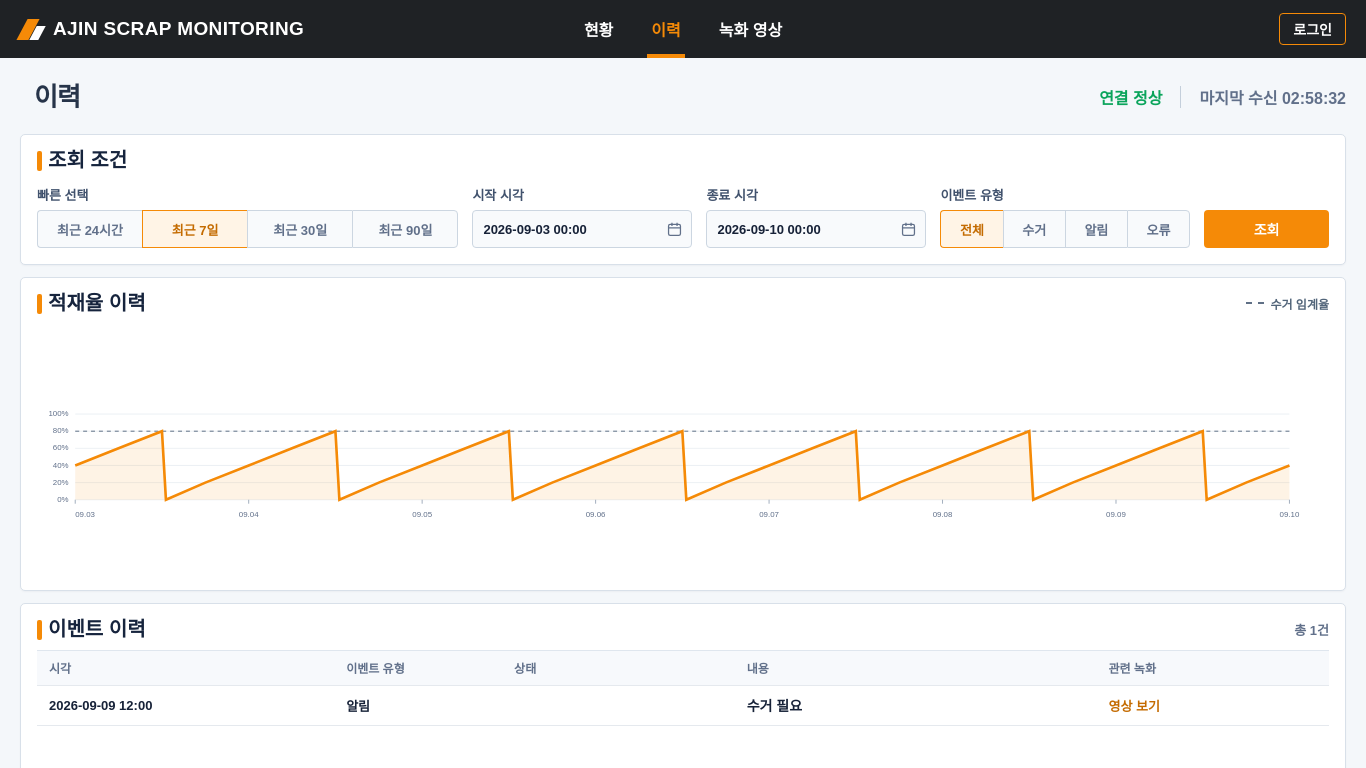
Test: 설명 Unknown backend description: event-987 <script>not executable</script>를 해석하지 않고 Backend 제목과 설명을 보존한다
This screenshot has width=1366, height=768.
Expected: the text "Unknown backend description: event-987 <script>not executable</script>" is not shown
Click the button with aria-label "알림 수거 필요 상세 보기" at {"x": 774, "y": 705}, box [747,695,802,715]
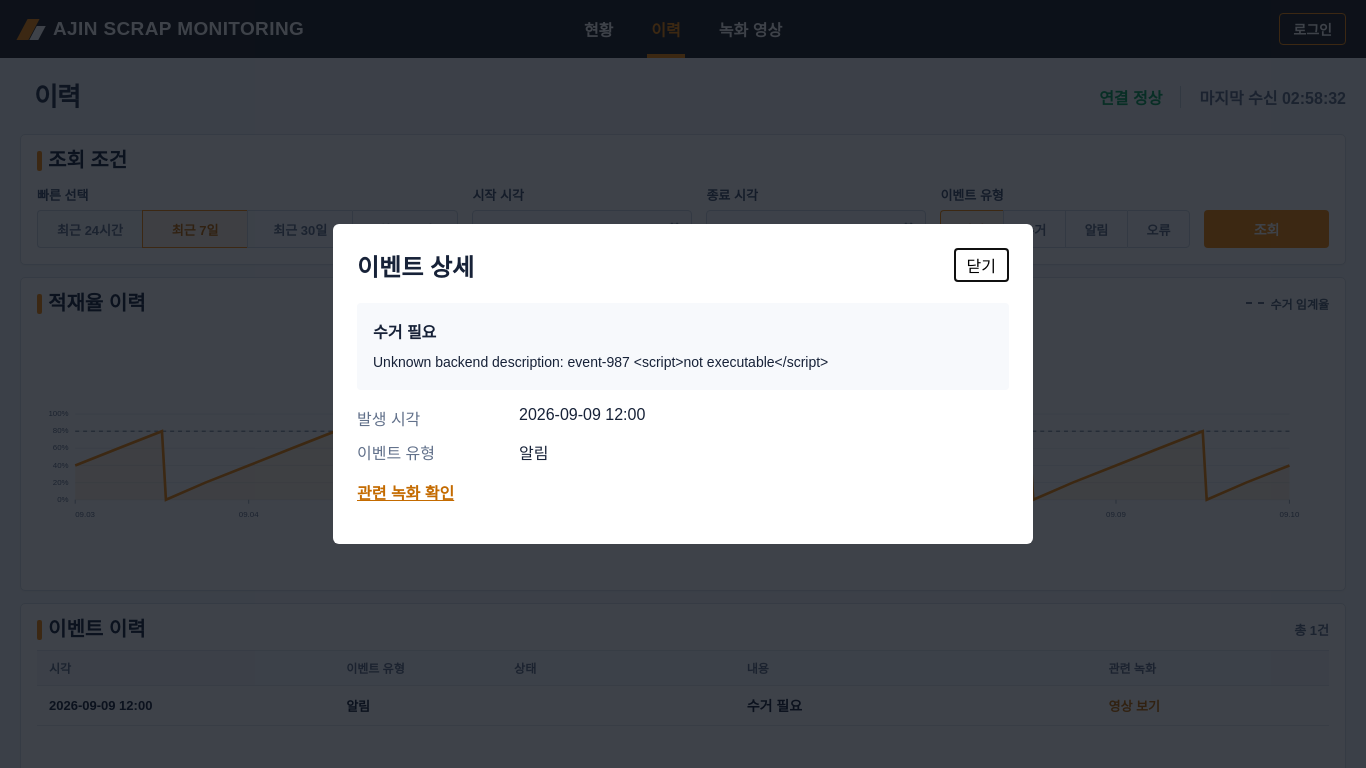
Expected: the heading "수거 필요" is shown, [373,324,436,341]
Expected: the text "Unknown backend description: event-987 <script>not executable</script>" is shown, [373,354,828,370]
